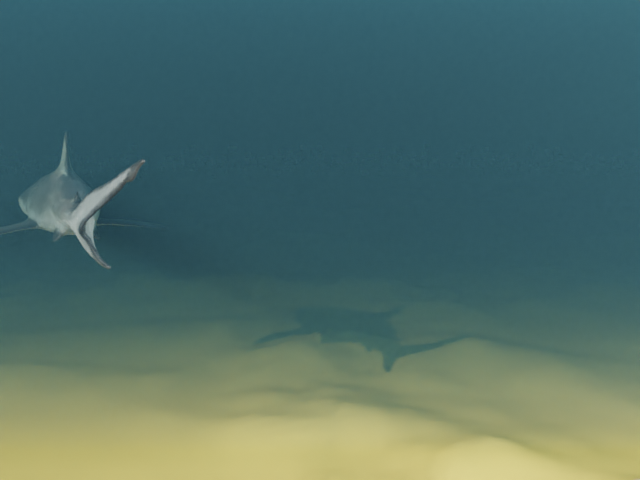Carribean Shark.001: (0, 131, 169, 269)
